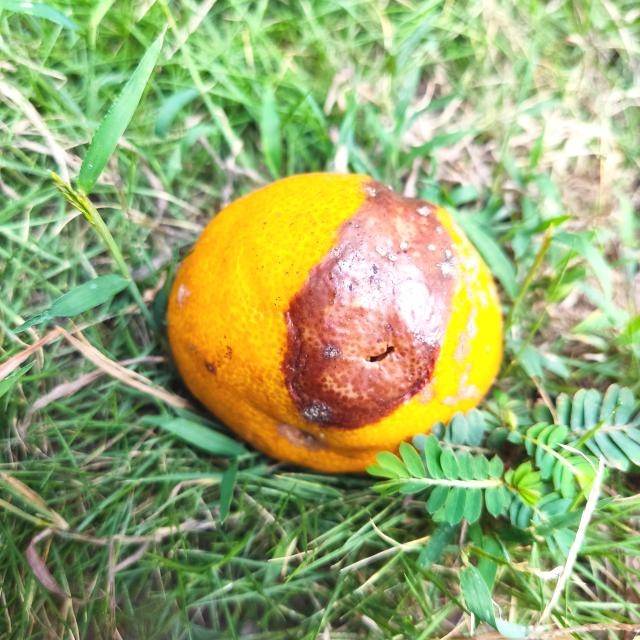agrume: (160, 173, 506, 469)
